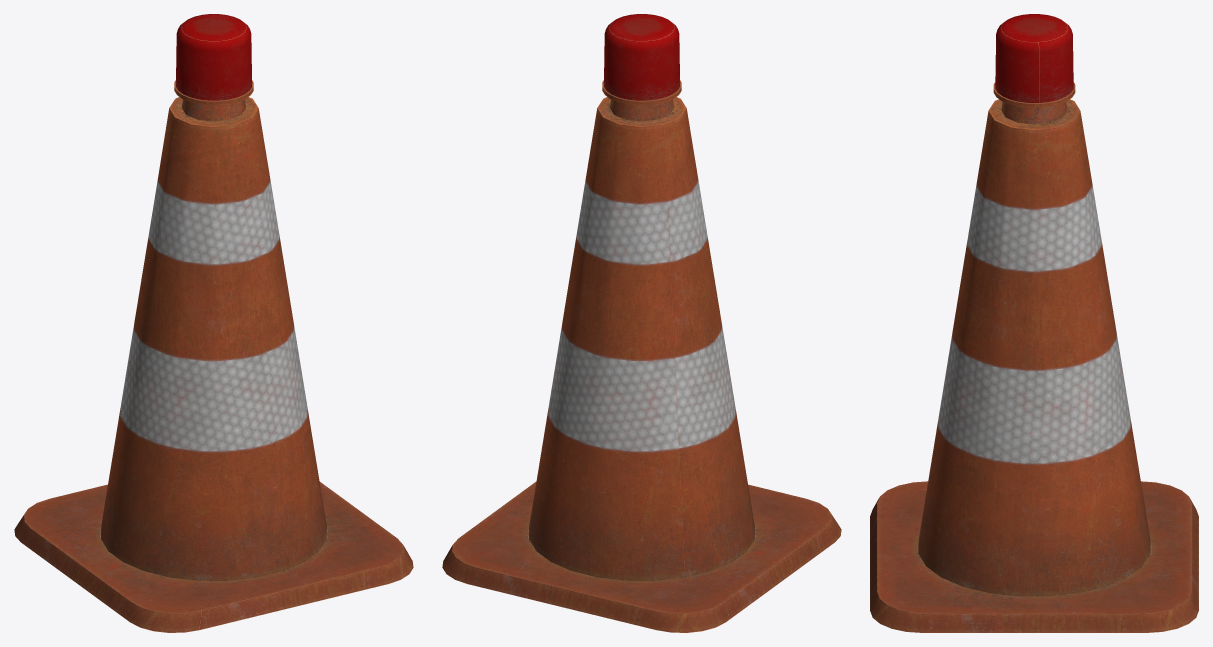
The model's file is traffic_cones.glb.
3 renders of one model, left to right at view 1: azimuth 30°, elevation 25°; view 2: azimuth 150°, elevation 25°; view 3: azimuth 270°, elevation 25°, orthographic. The views are drawn at different scales.
Parts seen in each view (by area): view 1: MainPart_low, Light_low; view 2: MainPart_low, Light_low; view 3: MainPart_low, Light_low.
Part boxes in pixels (x1,y1,x2,y2): MainPart_low: (14,97,413,632); Light_low: (174,14,253,105); MainPart_low: (442,97,841,632); Light_low: (602,14,681,105); MainPart_low: (870,99,1198,632); Light_low: (993,14,1075,107).
Size of the model in its own units: 0.3498 by 0.6304 by 0.3498.
Materials: 1 (1 with a texture image).
